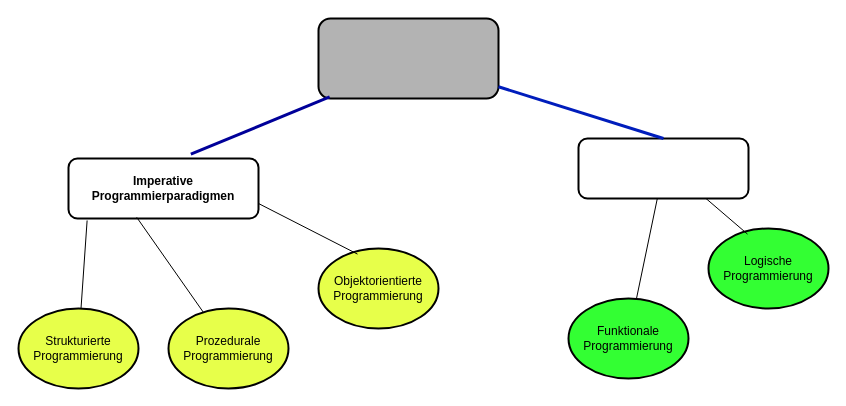
Image size: 846x406. Some labels were removed from this diagram. The centre of each missing label's shape, as x and y in pixels:
"Deklarative Programmierparadigmen" belongs at point (663, 168).
"Programierparadigmen" belongs at point (408, 58).
